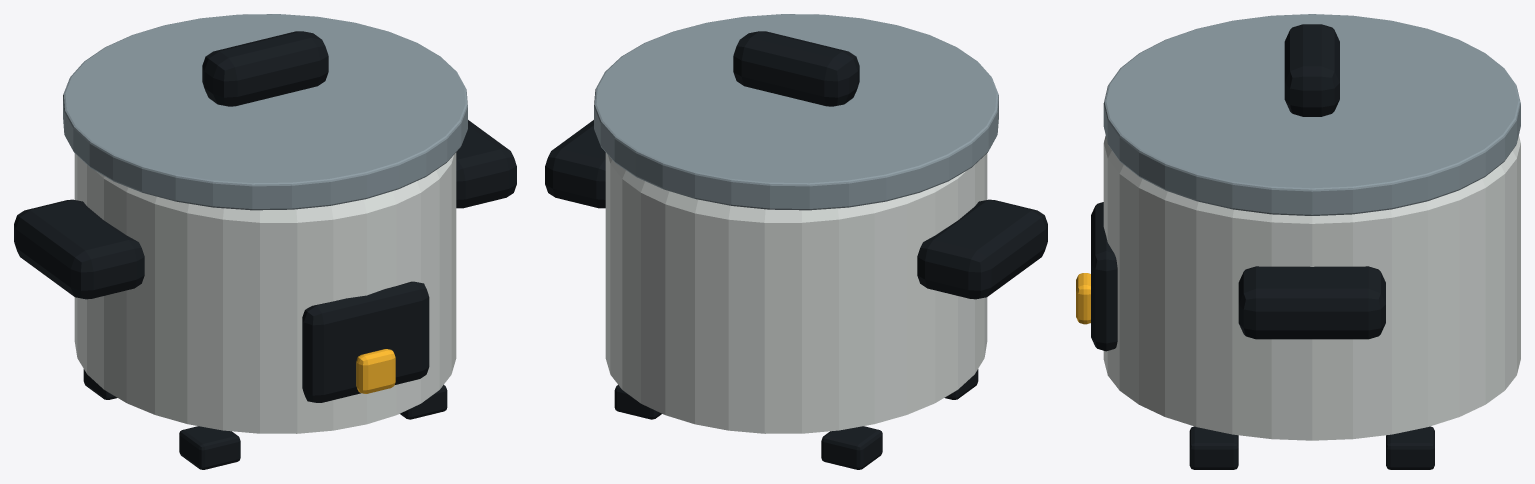
The model's file is edited.glb.
The picture shows the model from 3 angles, left to right: view 1: azimuth 30°, elevation 25°; view 2: azimuth 150°, elevation 25°; view 3: azimuth 270°, elevation 25°; orthographic projection. The views are drawn at different scales.
Parts seen in each view (by area): view 1: BODY_Hollow, LID, CONTROL_Panel, SIDE_Handle, LID_Handle, SIDE_Handle.001, FOOT, CONTROL_Switch, FOOT.002; view 2: BODY_Hollow, LID, SIDE_Handle, LID_Handle, SIDE_Handle.001, FOOT.001, FOOT.003; view 3: BODY_Hollow, LID, SIDE_Handle.001, LID_Handle, CONTROL_Panel, FOOT.002, FOOT.003, CONTROL_Switch.
Boxes of the visible parts, x1,y1,x2,y2 form: BODY_Hollow: [74, 152, 456, 433]; LID: [63, 14, 467, 210]; CONTROL_Panel: [302, 281, 429, 402]; SIDE_Handle: [14, 199, 144, 299]; LID_Handle: [202, 31, 328, 106]; SIDE_Handle.001: [456, 120, 516, 208]; FOOT: [179, 426, 240, 469]; CONTROL_Switch: [356, 349, 395, 393]; FOOT.002: [400, 385, 447, 419]; BODY_Hollow: [605, 152, 987, 433]; LID: [594, 14, 998, 210]; SIDE_Handle: [917, 199, 1047, 299]; LID_Handle: [733, 31, 859, 106]; SIDE_Handle.001: [545, 120, 605, 208]; FOOT.001: [821, 426, 882, 469]; FOOT.003: [614, 385, 661, 419]; BODY_Hollow: [1103, 135, 1520, 440]; LID: [1103, 14, 1520, 215]; SIDE_Handle.001: [1238, 266, 1385, 339]; LID_Handle: [1284, 24, 1339, 116]; CONTROL_Panel: [1091, 202, 1117, 351]; FOOT.002: [1189, 426, 1238, 469]; FOOT.003: [1386, 426, 1434, 469]; CONTROL_Switch: [1076, 273, 1090, 324].
Bounding box in the file's own units: 0.43 × 0.3275 × 0.3625.
